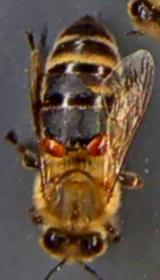varroa_mite: (76, 124, 115, 162), (42, 116, 72, 162)
